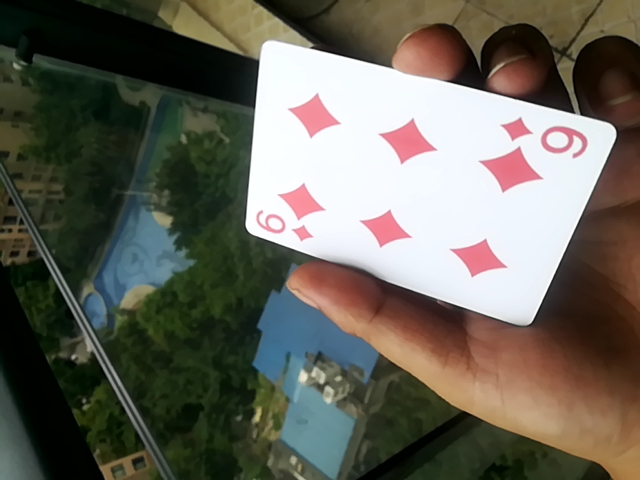fk 6: (236, 38, 614, 330)
